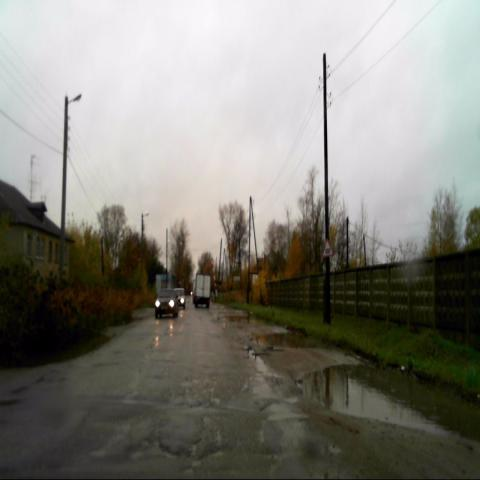1_1: (322, 238, 334, 257)
